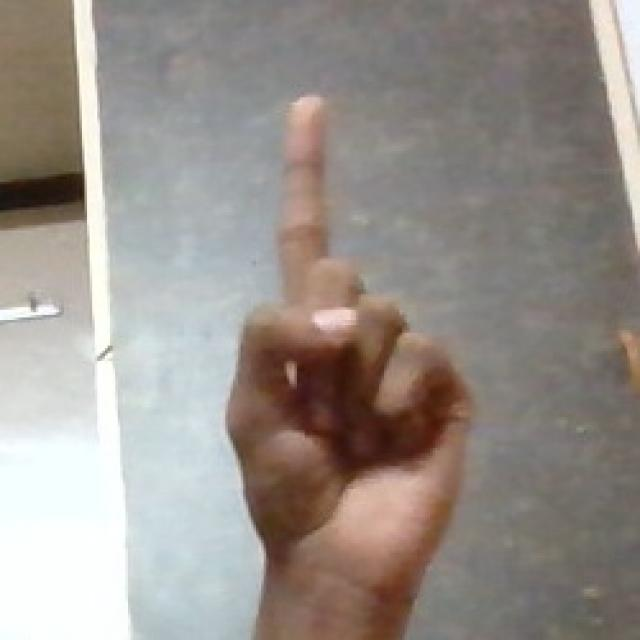Numeric-1: (227, 87, 472, 610)
